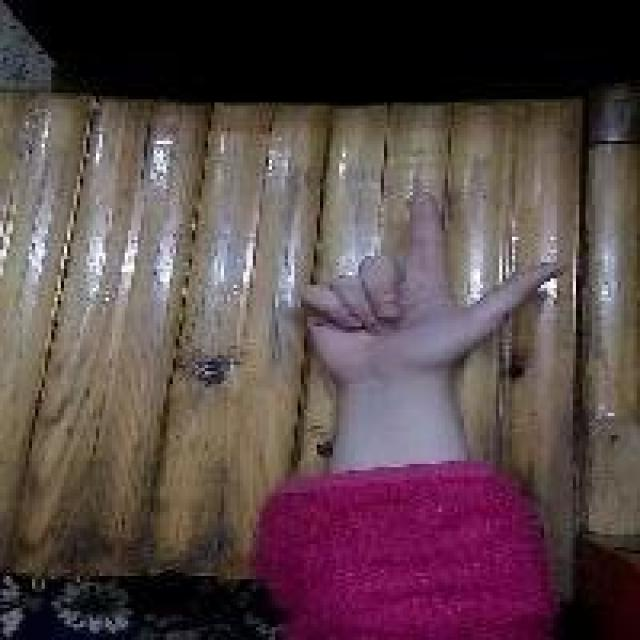L: (290, 182, 564, 381)
